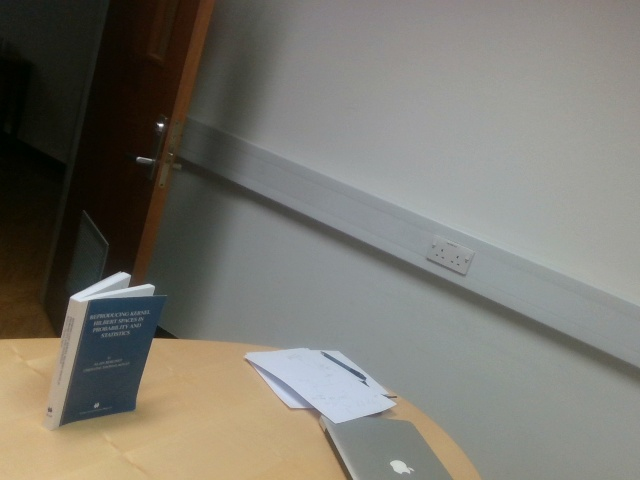book: (44, 272, 166, 428)
